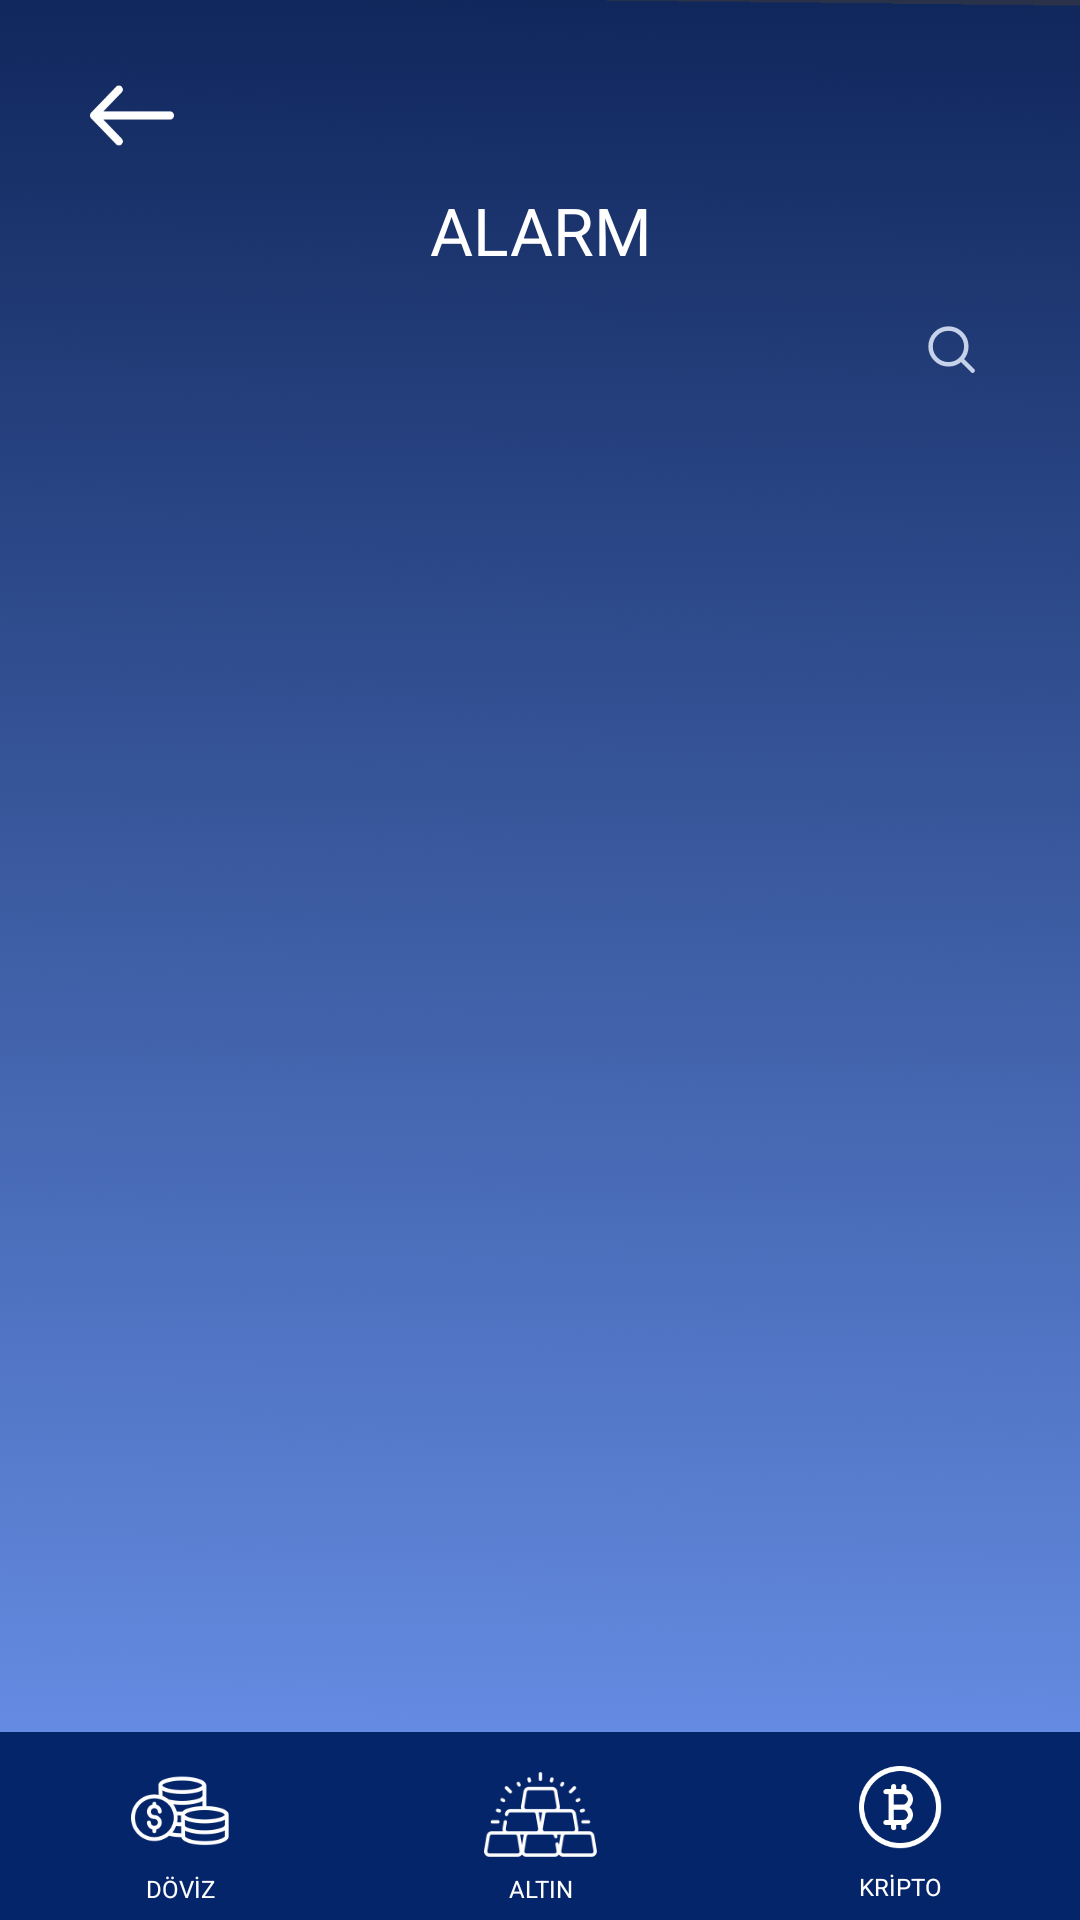

Icons on this 1080*1920 Android screen, each with its box as (x1, y1, x2, y2):
back: (90, 85, 174, 146)
dollar: (131, 1776, 229, 1845)
